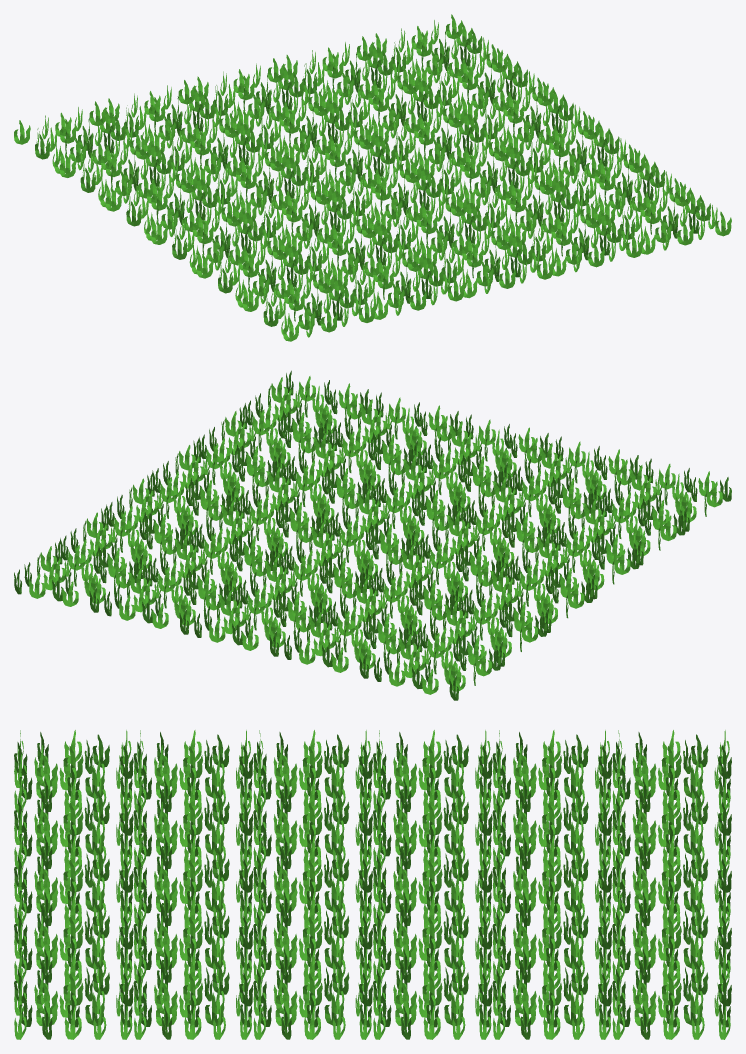
The model's file is Grass.fbx.
3 renders of one model, top to bottom at view 1: azimuth 30°, elevation 25°; view 2: azimuth 150°, elevation 25°; view 3: azimuth 270°, elevation 25°, orthographic. The views are drawn at different scales.
Visible parts, largest first — view 1: Vert.003; view 2: Vert.003; view 3: Vert.003.
Boxes of the visible parts, left/top/right/bottom form: Vert.003: left=14, top=14, right=731, bottom=341; Vert.003: left=14, top=370, right=731, bottom=700; Vert.003: left=14, top=730, right=731, bottom=1039.
Size of the model in its own units: 7.77 by 0.4247 by 8.29.
